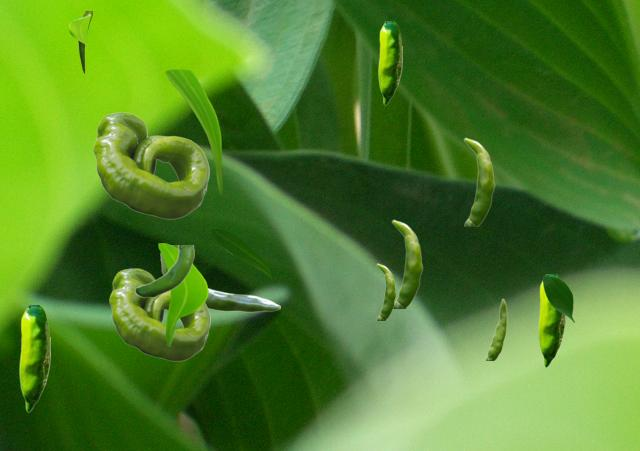green_chili: (93, 112, 208, 218), (109, 268, 209, 360), (160, 245, 279, 311), (19, 305, 49, 411), (134, 245, 193, 297), (391, 219, 422, 307), (463, 137, 494, 225), (538, 274, 564, 366), (378, 21, 401, 104), (486, 298, 506, 359), (376, 263, 395, 319), (78, 11, 91, 72)
